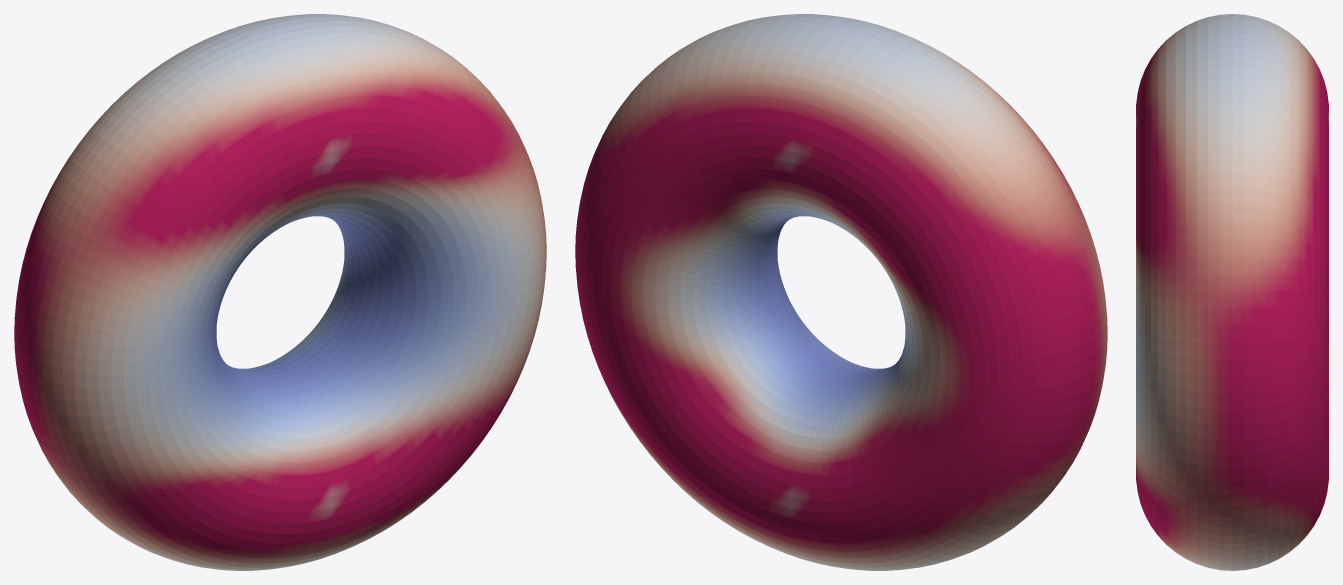
The picture shows the model from 3 angles, left to right: view 1: azimuth 30°, elevation 25°; view 2: azimuth 150°, elevation 25°; view 3: azimuth 270°, elevation 25°; orthographic projection. The views are drawn at different scales.
Visible parts, largest first — view 1: world; view 2: world; view 3: world.
Boxes of the visible parts, <box> form: world: <box>14,14,546,570</box>; world: <box>575,14,1107,570</box>; world: <box>1136,14,1328,570</box>.
Bounding box in the file's own units: 23.47 × 23.47 × 8.12.
